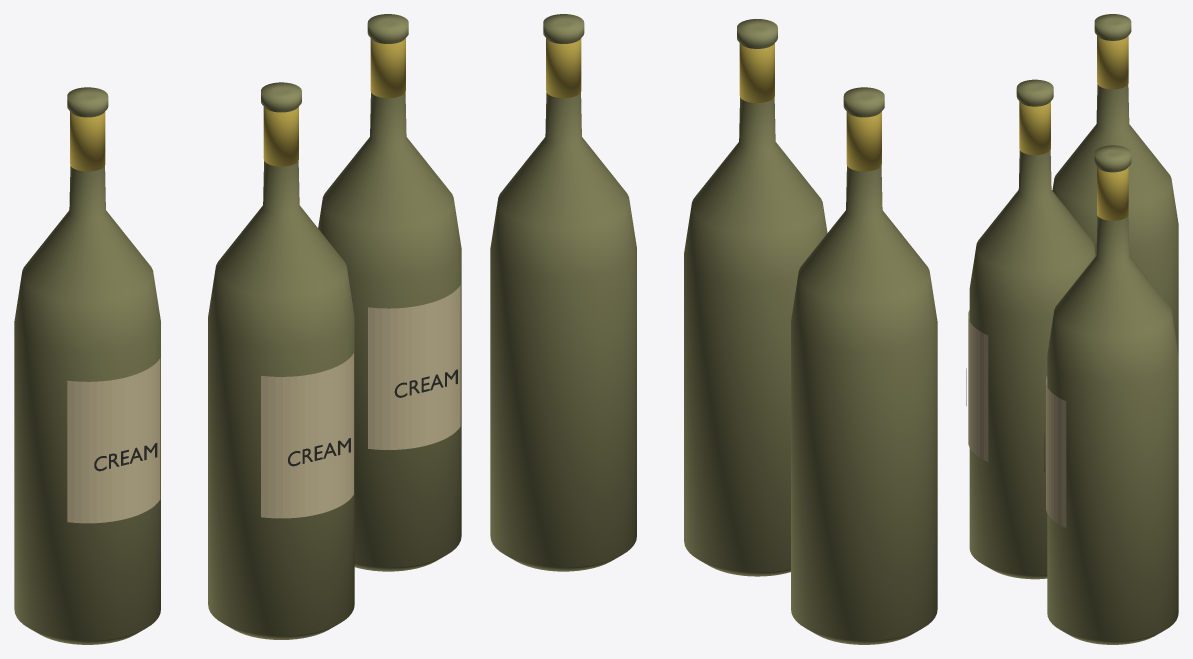
The picture shows the model from 3 angles, left to right: view 1: azimuth 30°, elevation 25°; view 2: azimuth 150°, elevation 25°; view 3: azimuth 270°, elevation 25°; orthographic projection. The views are drawn at different scales.
Parts seen in each view (by area): view 1: TI004 / bottle body, TI004 / bottle body.001, TI004 / bottle body.002, TI004 / curved bottle label, TI004 / curved bottle label.002, TI004 / curved bottle label.001, TI004 / bottle neck foil, TI004 / bottle neck foil.001, TI004 / bottle neck foil.002; view 2: TI004 / bottle body.002, TI004 / bottle body, TI004 / bottle body.001, TI004 / bottle neck foil, TI004 / bottle neck foil.002, TI004 / bottle neck foil.001; view 3: TI004 / bottle body.002, TI004 / bottle body.001, TI004 / bottle body, TI004 / curved bottle label.002, TI004 / curved bottle label.001, TI004 / bottle neck foil, TI004 / bottle neck foil.002, TI004 / bottle neck foil.001.
Boxes of the visible parts, box(x1,y1,x2,y2) form: TI004 / bottle body: box(14, 87, 160, 644); TI004 / bottle body.001: box(208, 82, 354, 639); TI004 / bottle body.002: box(318, 14, 461, 571); TI004 / curved bottle label: box(67, 358, 160, 523); TI004 / curved bottle label.002: box(368, 285, 460, 449); TI004 / curved bottle label.001: box(261, 353, 353, 518); TI004 / bottle neck foil: box(70, 111, 105, 171); TI004 / bottle neck foil.001: box(263, 106, 298, 166); TI004 / bottle neck foil.002: box(370, 38, 405, 98); TI004 / bottle body.002: box(490, 14, 636, 571); TI004 / bottle body: box(791, 87, 937, 644); TI004 / bottle body.001: box(684, 19, 827, 576); TI004 / bottle neck foil: box(846, 111, 881, 171); TI004 / bottle neck foil.002: box(546, 38, 581, 98); TI004 / bottle neck foil.001: box(739, 43, 774, 102); TI004 / bottle body.002: box(1047, 145, 1178, 644); TI004 / bottle body.001: box(969, 79, 1095, 579); TI004 / bottle body: box(1052, 14, 1178, 354); TI004 / curved bottle label.002: box(1046, 376, 1066, 527); TI004 / curved bottle label.001: box(968, 310, 988, 461); TI004 / bottle neck foil: box(1097, 36, 1128, 89); TI004 / bottle neck foil.002: box(1097, 167, 1128, 220); TI004 / bottle neck foil.001: box(1019, 101, 1050, 155).
Bounding box in the file's own units: 2.56 × 3 × 1.23.
